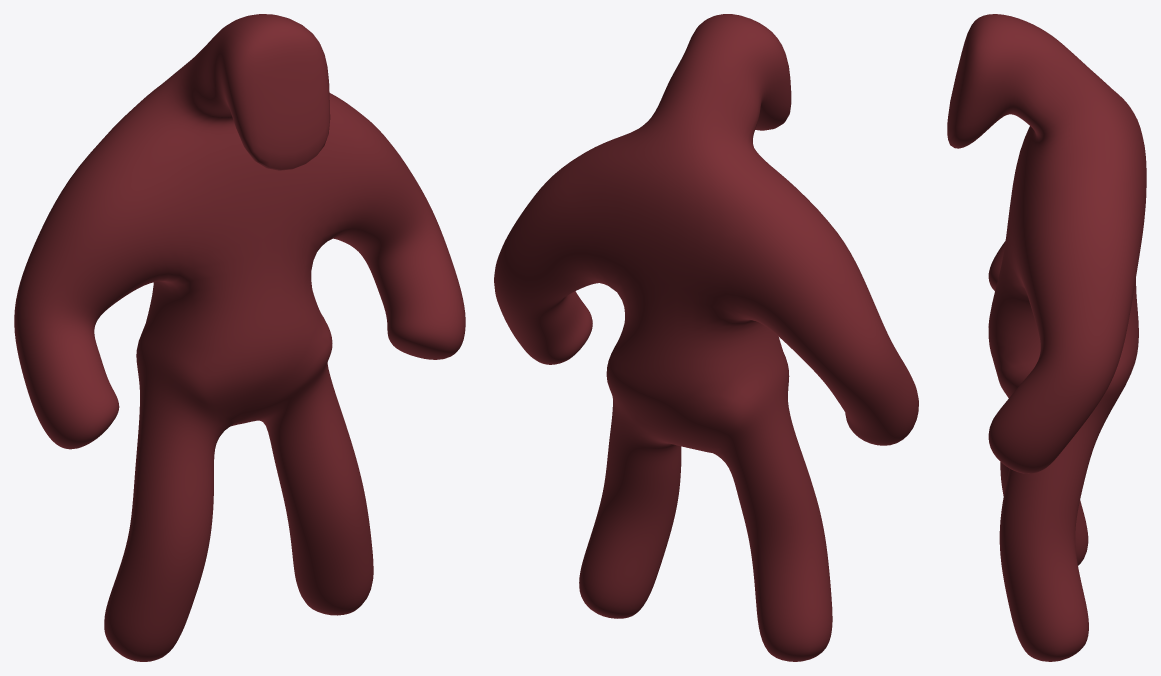
The model's file is dwarf.fbx.
3 renders of one model, left to right at view 1: azimuth 30°, elevation 25°; view 2: azimuth 150°, elevation 25°; view 3: azimuth 270°, elevation 25°, orthographic. The views are drawn at different scales.
Parts seen in each view (by area): view 1: Cube; view 2: Cube; view 3: Cube.
Boxes of the visible parts, x1,y1,x2,y2 form: Cube: (14,14,465,661); Cube: (494,14,918,661); Cube: (947,14,1146,661).
Size of the model in its own units: 274 by 395 by 120.
